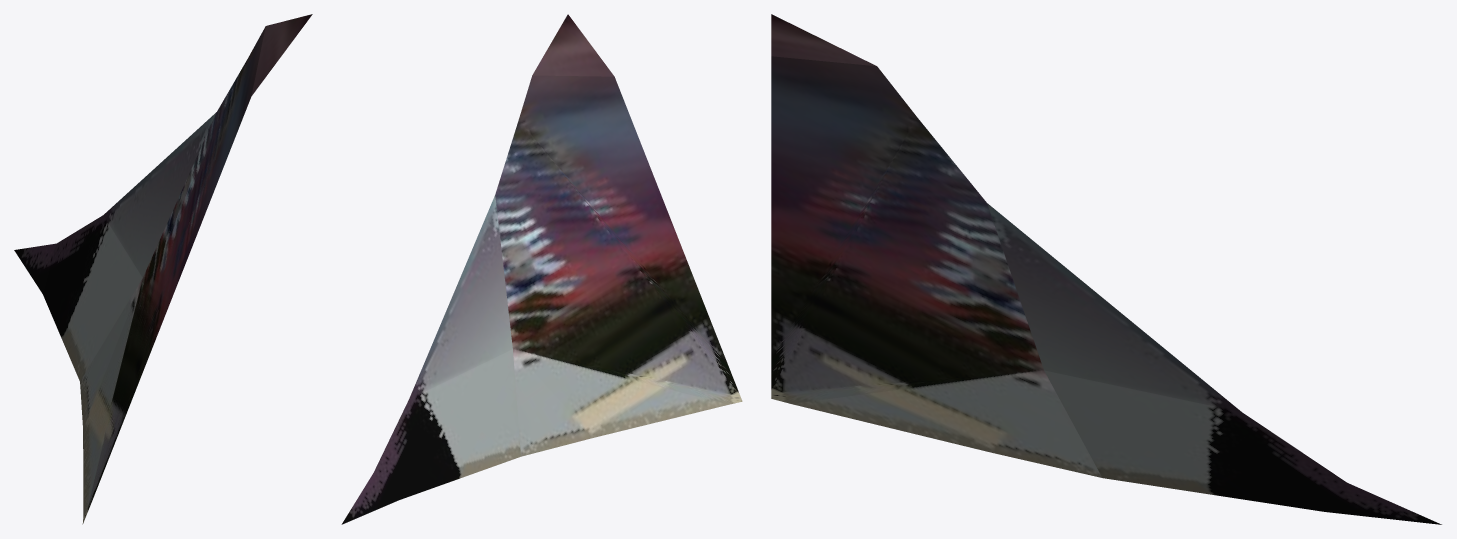
3 renders of one model, left to right at view 1: azimuth 30°, elevation 25°; view 2: azimuth 150°, elevation 25°; view 3: azimuth 270°, elevation 25°, orthographic. The views are drawn at different scales.
Size of the model in its own units: 0.5645 by 1.07 by 1.27.
Materials: 1 (1 with a texture image).
